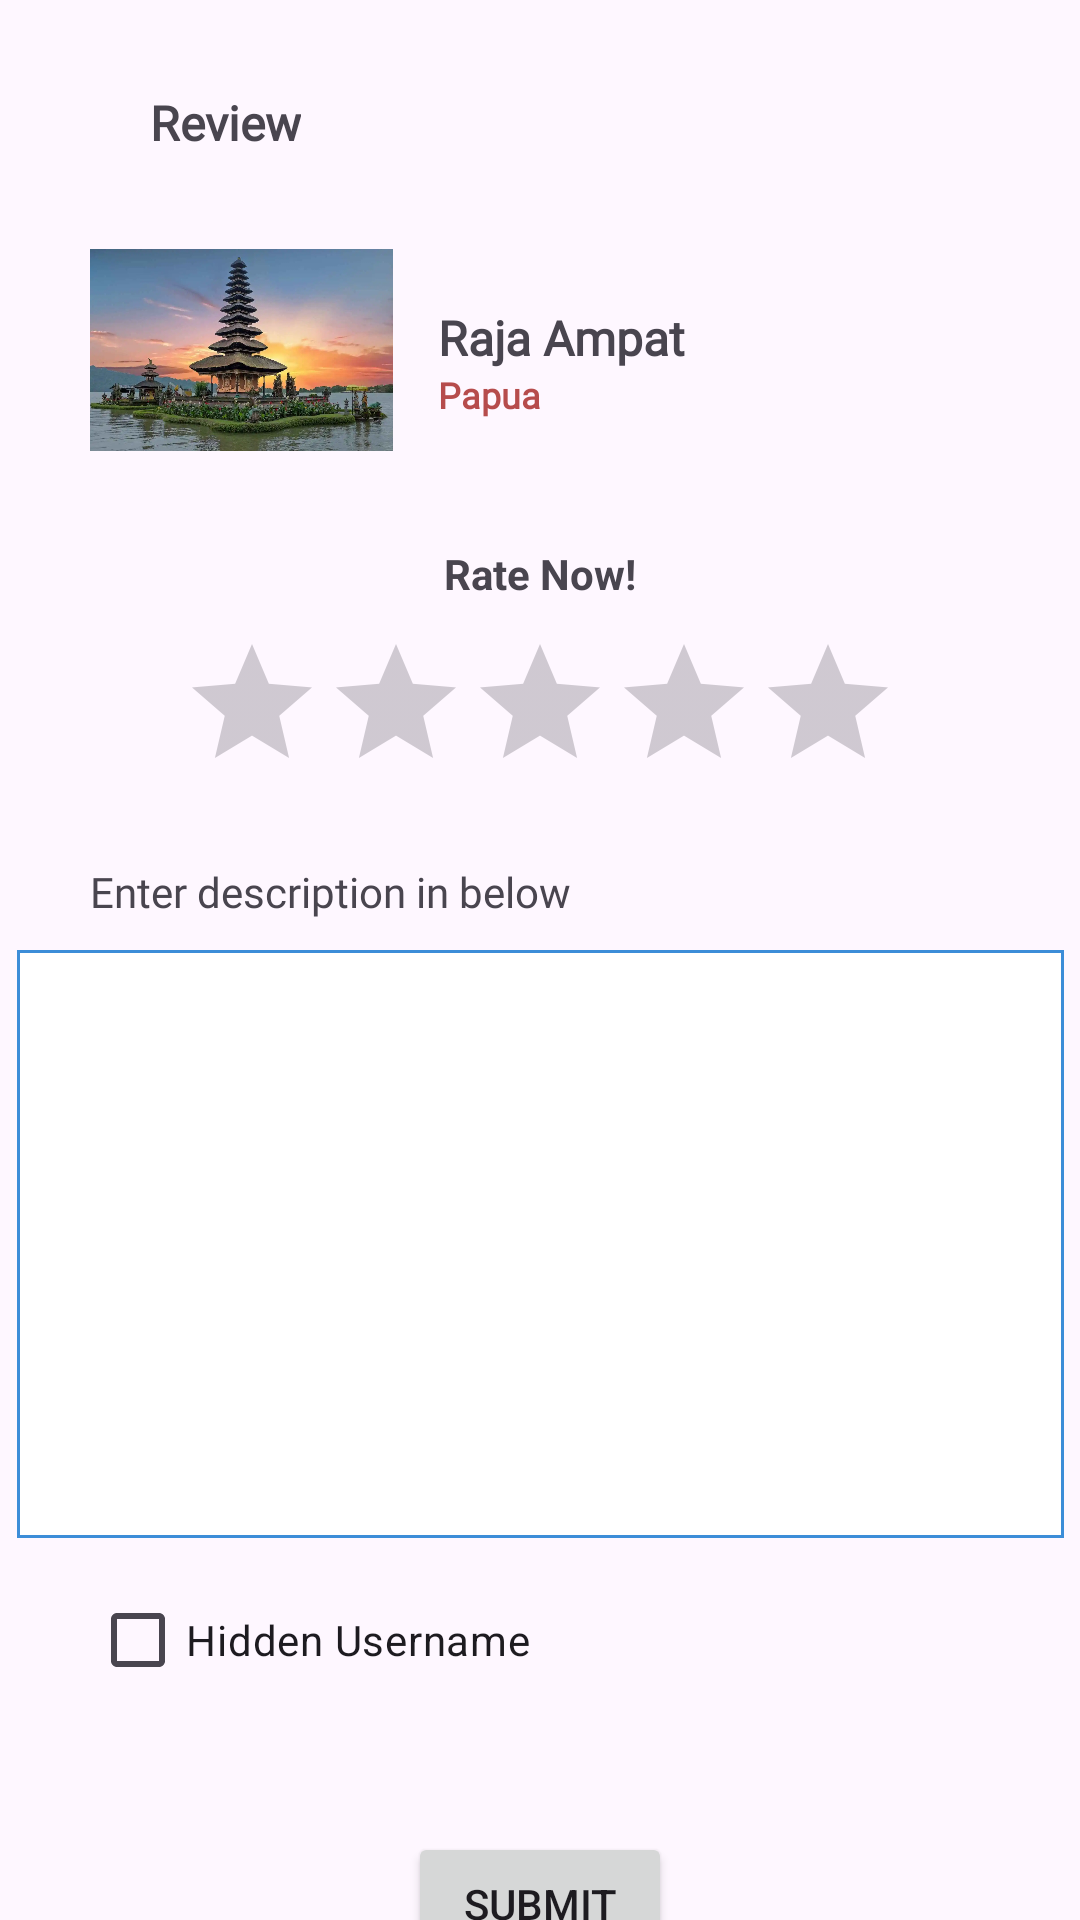

Named icons in this screenshot (1080px×1920px) and their bounding boxes, (x1, y1, x2, y2):
bali: (90, 249, 393, 451)
